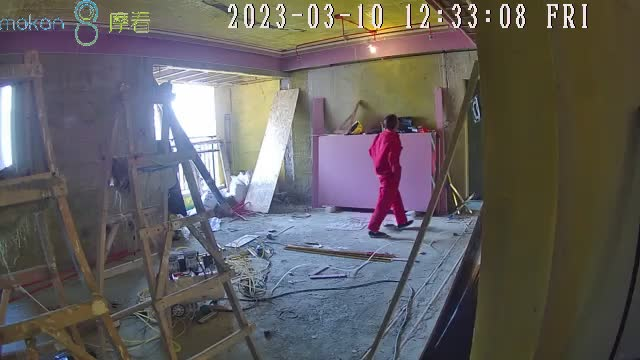people: (367, 114, 414, 236)
window: (154, 80, 219, 142)
